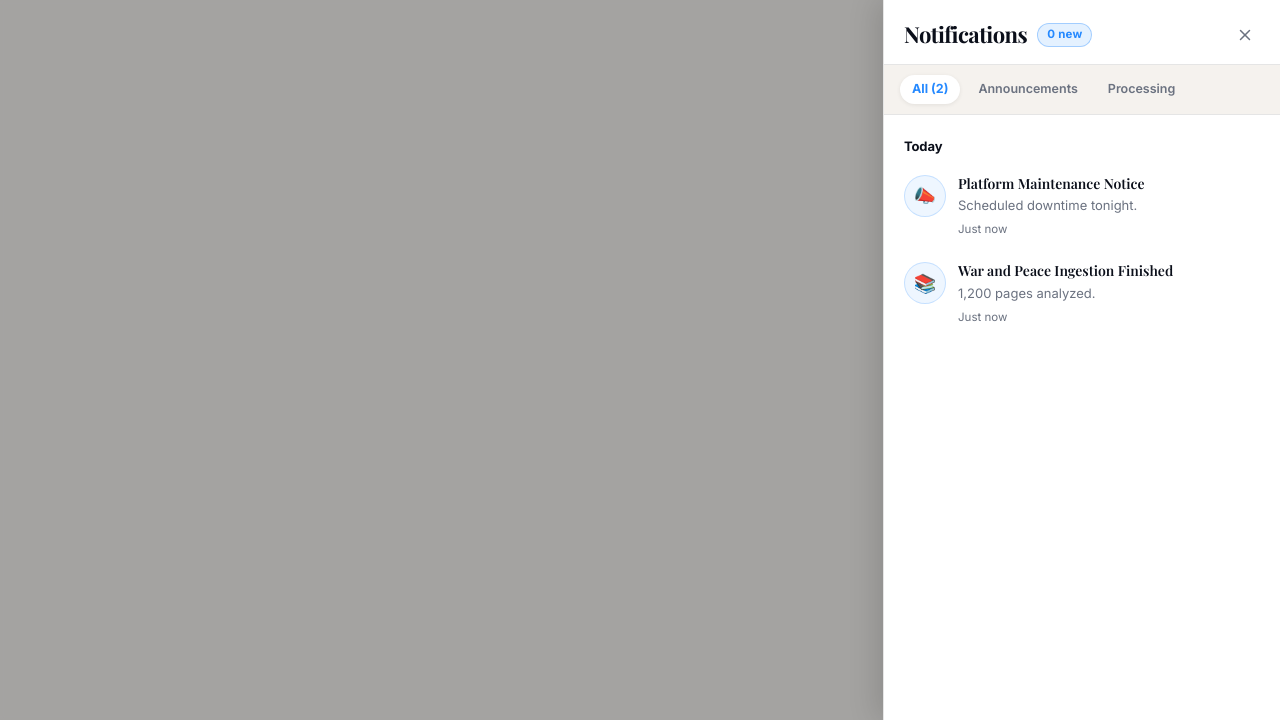
NotificationsDrawer (Instagram-Style Sliding Drawer) › filters notifications when tabs are clicked
This screenshot has width=1280, height=720.
Expected: the heading "Platform Maintenance Notice" is shown, [958,175,1144,193]
Expected: the heading "War and Peace Ingestion Finished" is shown, [958,262,1173,281]
# Filter to Announcements only
Click the tab "Announcements": (1028, 89) [966,75,1090,104]
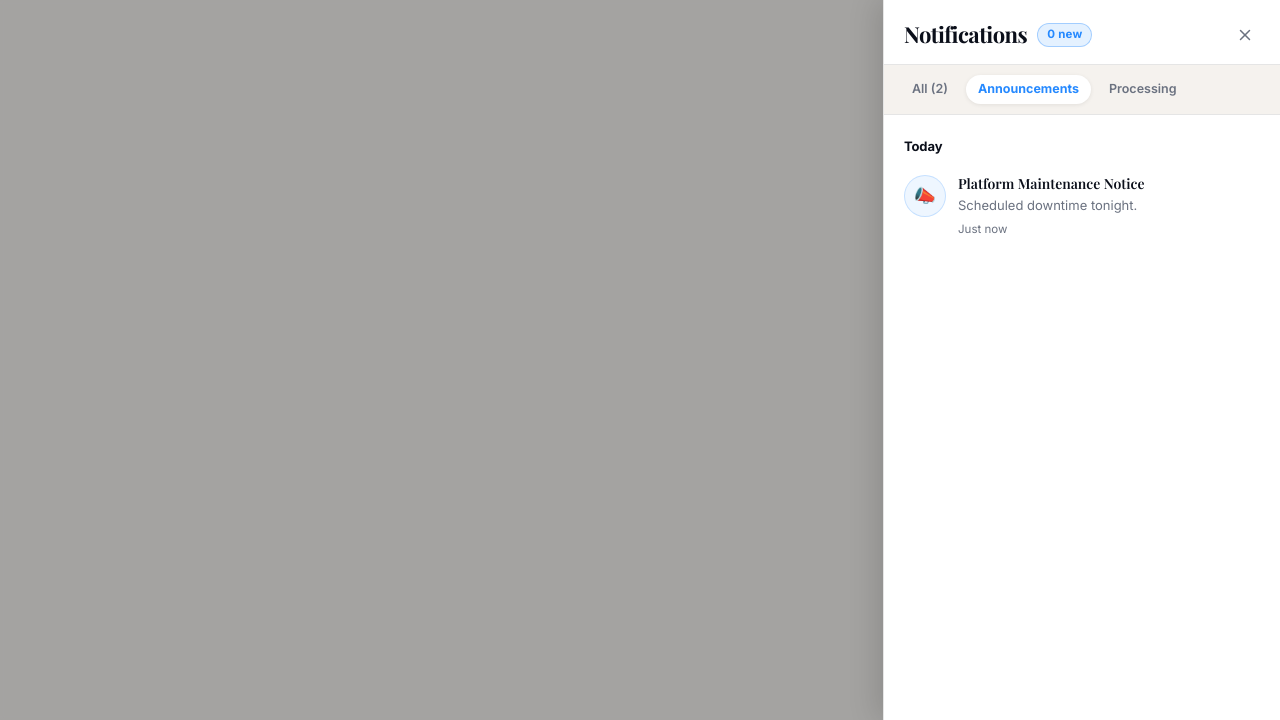
Expected: the heading "Platform Maintenance Notice" is shown, [958,175,1144,193]
Expected: the heading "War and Peace Ingestion Finished" is gone
# Filter to Processing only
Click the tab "Processing": (1143, 89) [1097,75,1188,104]
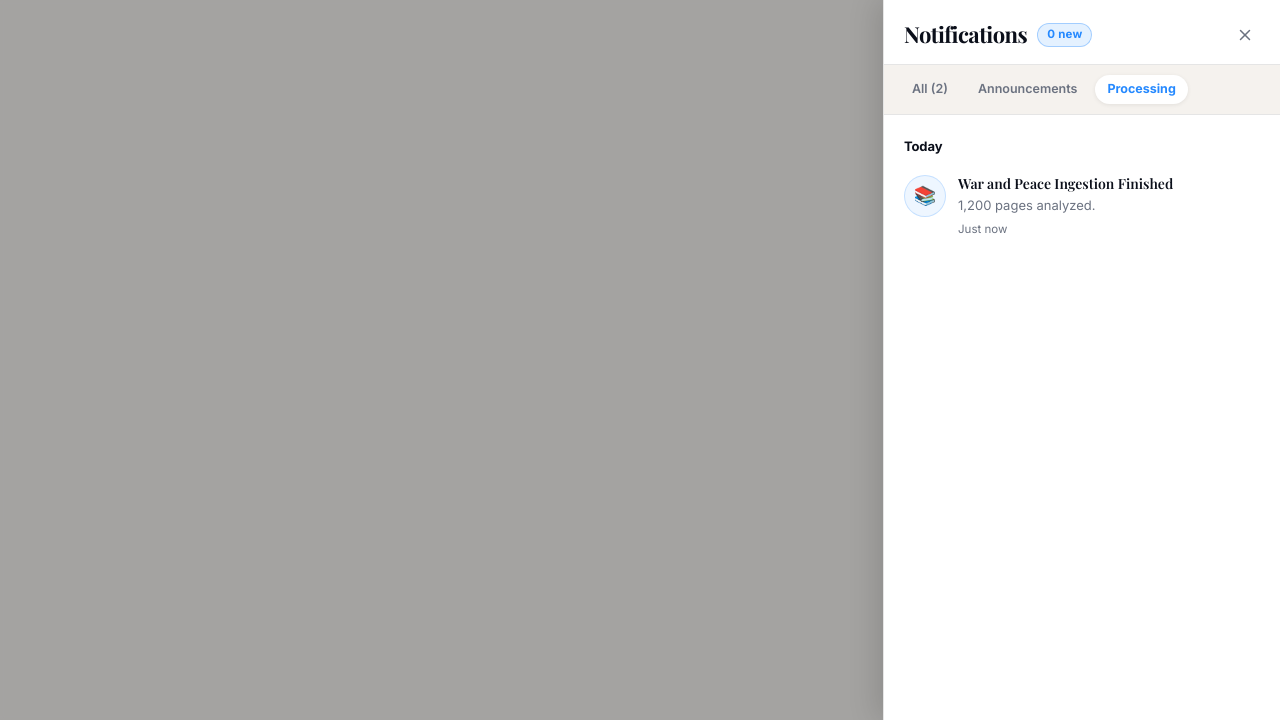
Expected: the heading "Platform Maintenance Notice" is gone
Expected: the heading "War and Peace Ingestion Finished" is shown, [958,175,1173,193]
